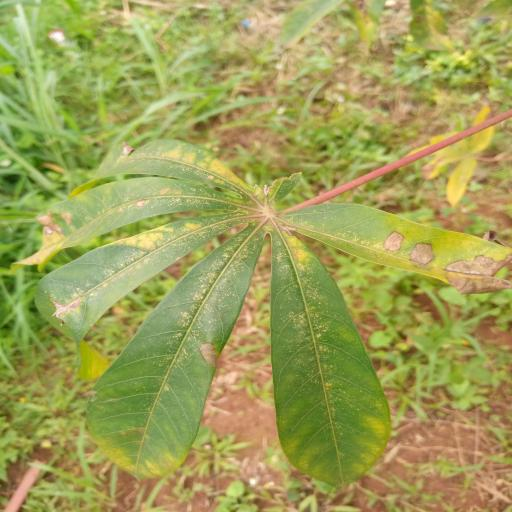Cassava_Mosaic: (33, 130, 510, 490)
